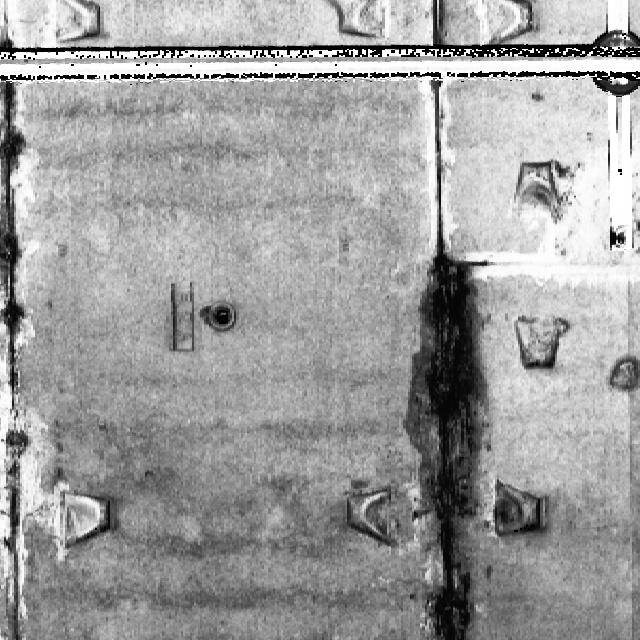leakage: (391, 233, 497, 639)
